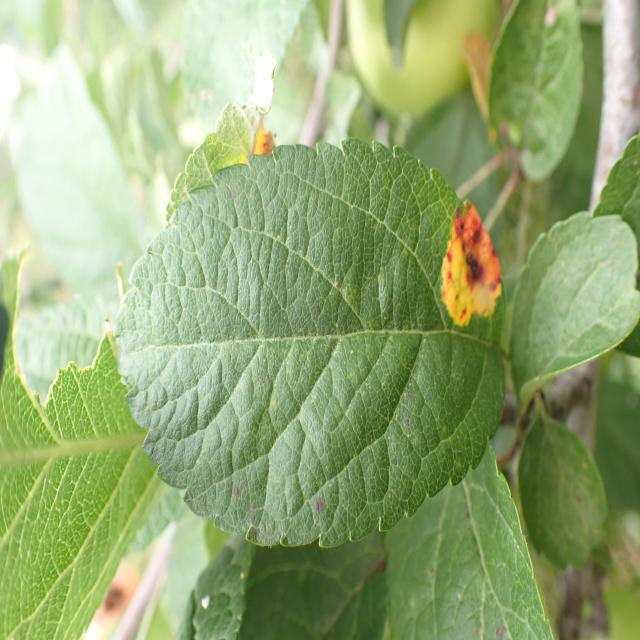rust: (113, 137, 507, 549)
